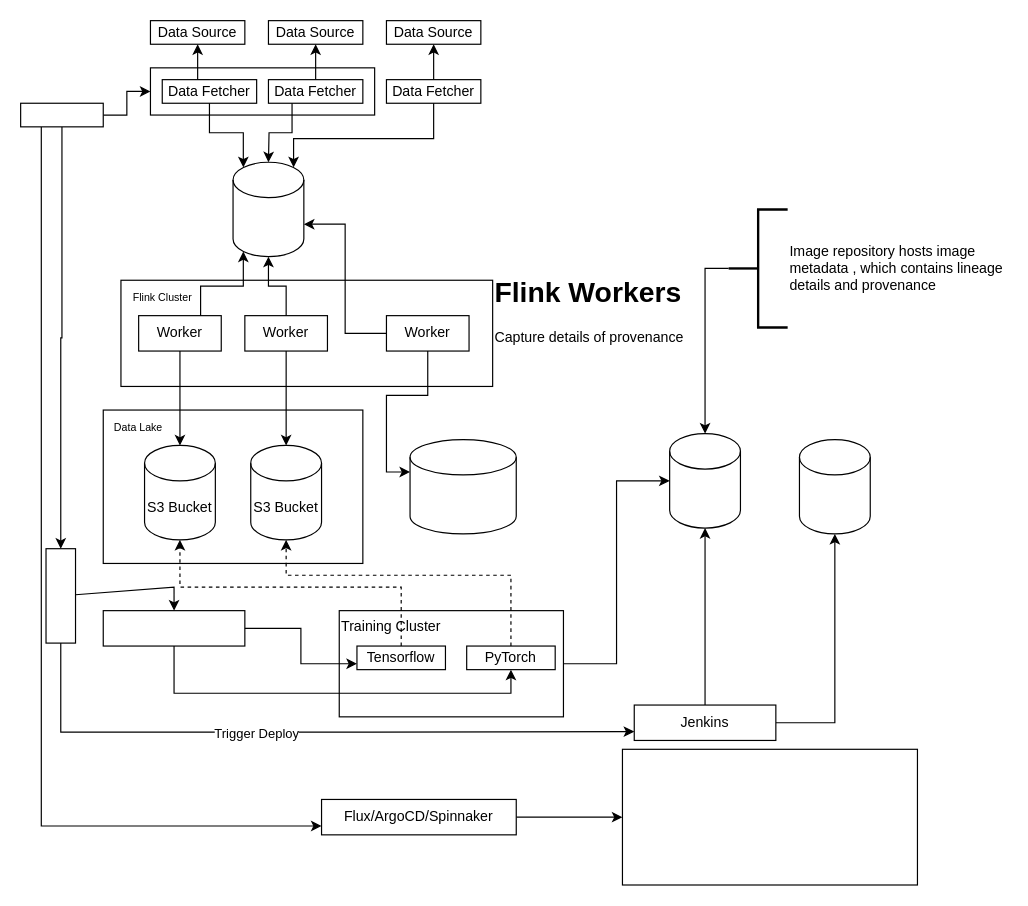
Some shapes in this 1028 by 906 pixel diagram are drawn without their labels. The shapes that lost their labels are listed below. From the top down, each one's centre as x and y in pixels, then its label:
At point 61,114: "Airflow".
At point 268,209: "Kafka Queue".
At point 462,486: "Feature Store with proven ance".
At point 704,480: "Image Repository".
At point 834,486: "Container Repository".
At point 60,595: "Training Job".
At point 173,627: "ML Flow".
At point 769,816: "Kubernetes Cluster with ML Serving".
